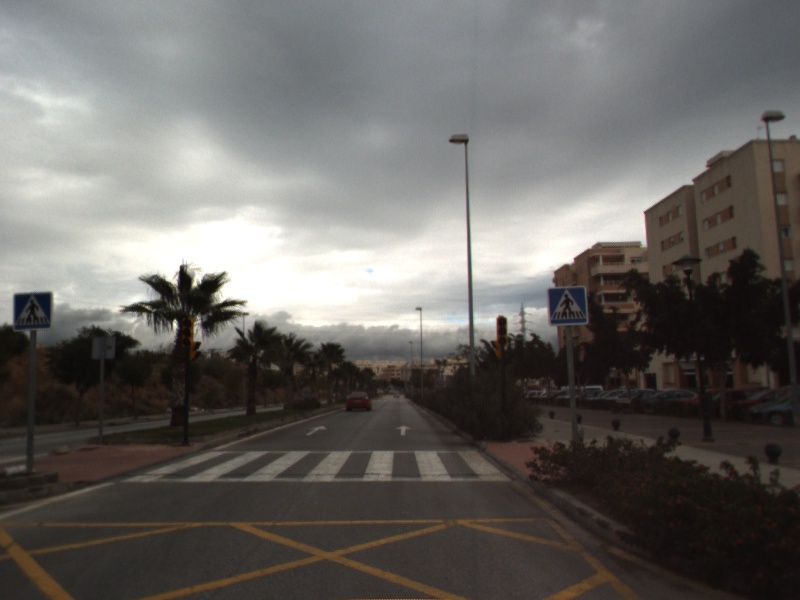STRAIGHT: (304, 423, 329, 437), (393, 423, 414, 437)
